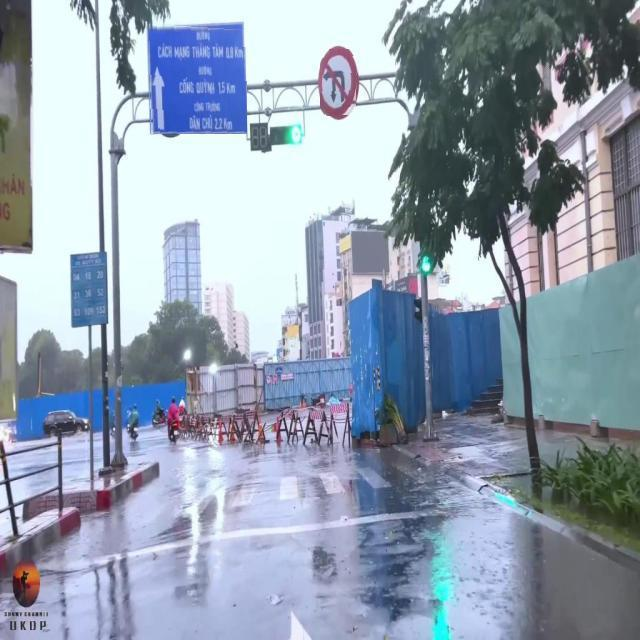124c-cam-re-trai-va-cam-quay-dau-xe: (318, 45, 358, 119)
